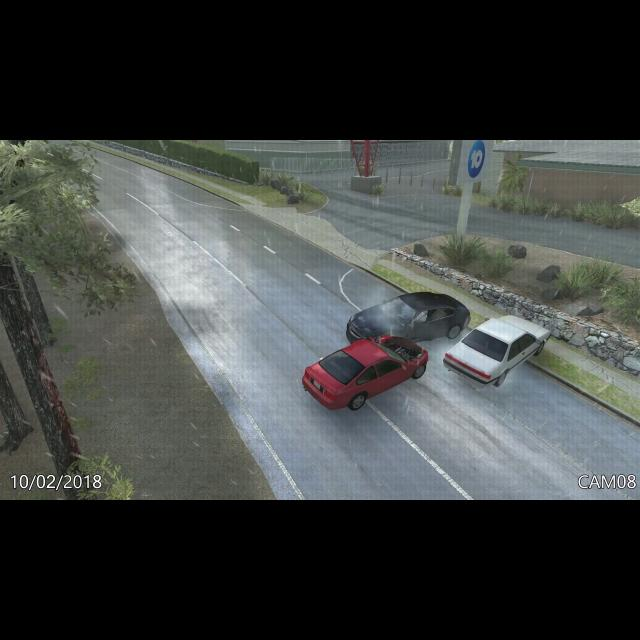accident: (299, 290, 471, 407)
